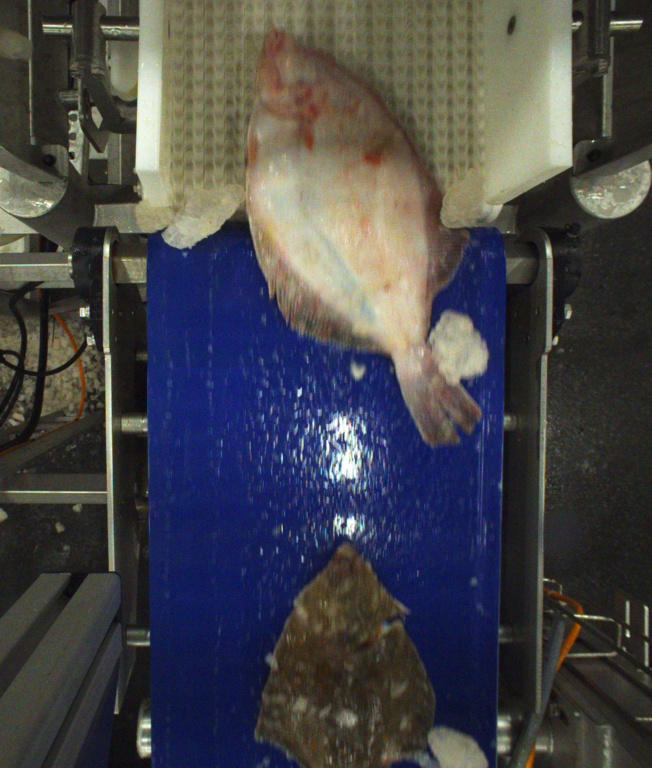PLE: (243, 30, 483, 449)
